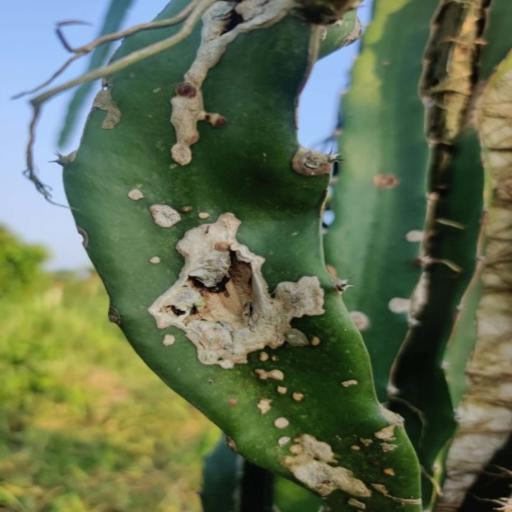stemcanker: (145, 323, 194, 368), (146, 135, 190, 181), (377, 279, 421, 322), (369, 160, 404, 209), (124, 169, 152, 225), (138, 241, 174, 281), (146, 76, 174, 124), (324, 372, 367, 400), (370, 424, 405, 458), (182, 195, 218, 226), (364, 54, 395, 90), (340, 430, 367, 470), (246, 144, 278, 177), (298, 336, 340, 359), (281, 227, 323, 249), (343, 303, 380, 327), (292, 384, 319, 415), (262, 247, 286, 280), (408, 226, 436, 252), (375, 460, 411, 480), (255, 396, 280, 420), (218, 393, 248, 413), (266, 413, 294, 434), (272, 436, 302, 454), (358, 430, 382, 452), (201, 375, 226, 395), (250, 365, 299, 374), (272, 385, 295, 400), (347, 501, 372, 512), (256, 352, 282, 359)
